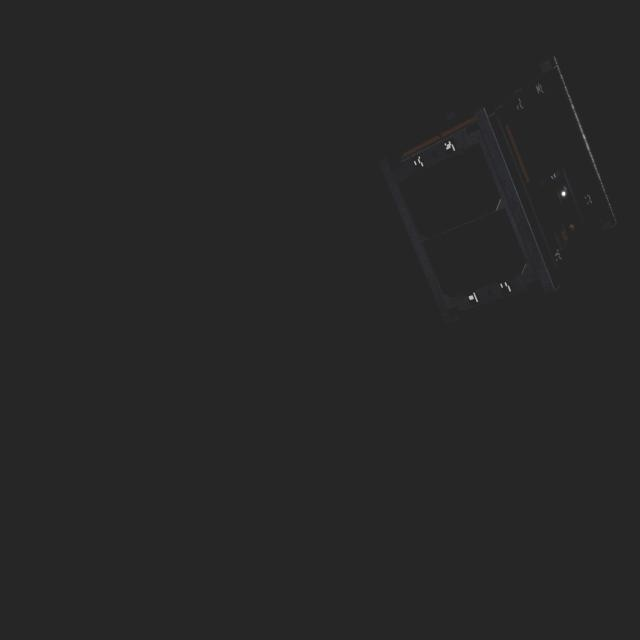medium_debris: (377, 52, 619, 316)
